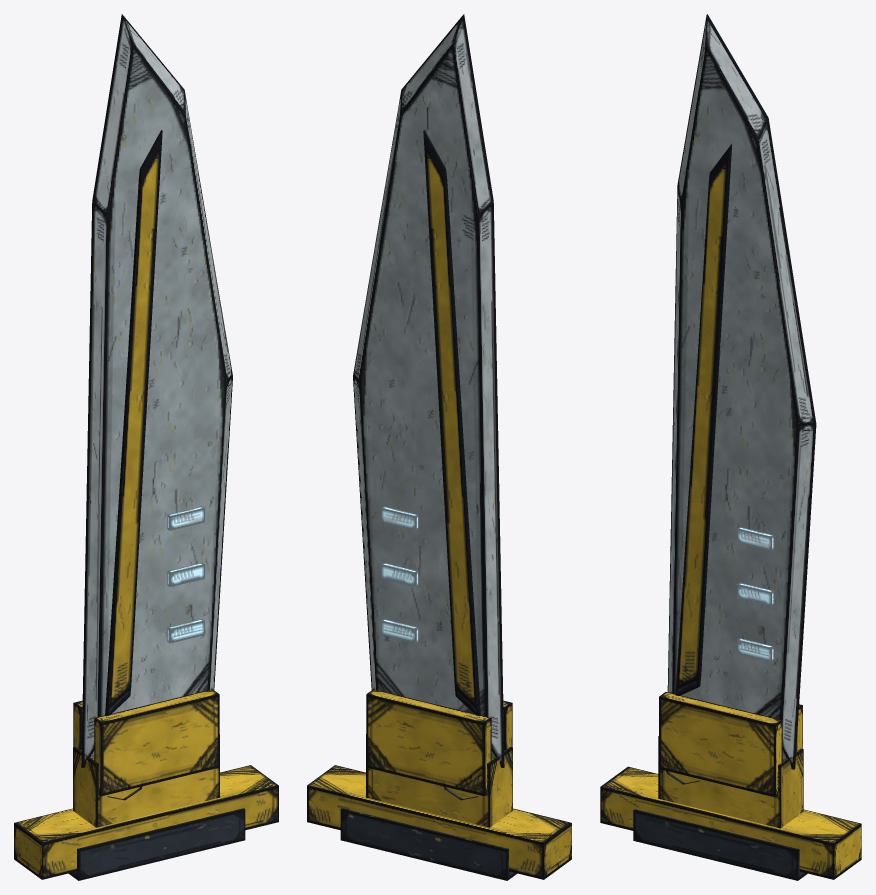
The model's file is blade_hyperion.glb.
3 renders of one model, left to right at view 1: azimuth 30°, elevation 25°; view 2: azimuth 150°, elevation 25°; view 3: azimuth 330°, elevation 25°, orthographic.
Visible parts, largest first — view 1: blade_hyperion; view 2: blade_hyperion; view 3: blade_hyperion.
Part boxes in pixels (x1,y1,x2,y2): blade_hyperion: [14, 14, 278, 880]; blade_hyperion: [307, 14, 571, 880]; blade_hyperion: [600, 14, 861, 880].
Size of the model in its own units: 0.44 by 1.49 by 0.1.
Materials: 2 (2 with a texture image).
